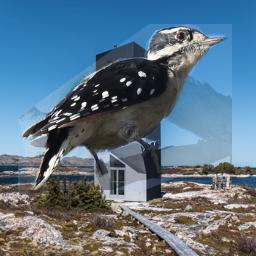Woodpecker: (18, 24, 232, 190)
